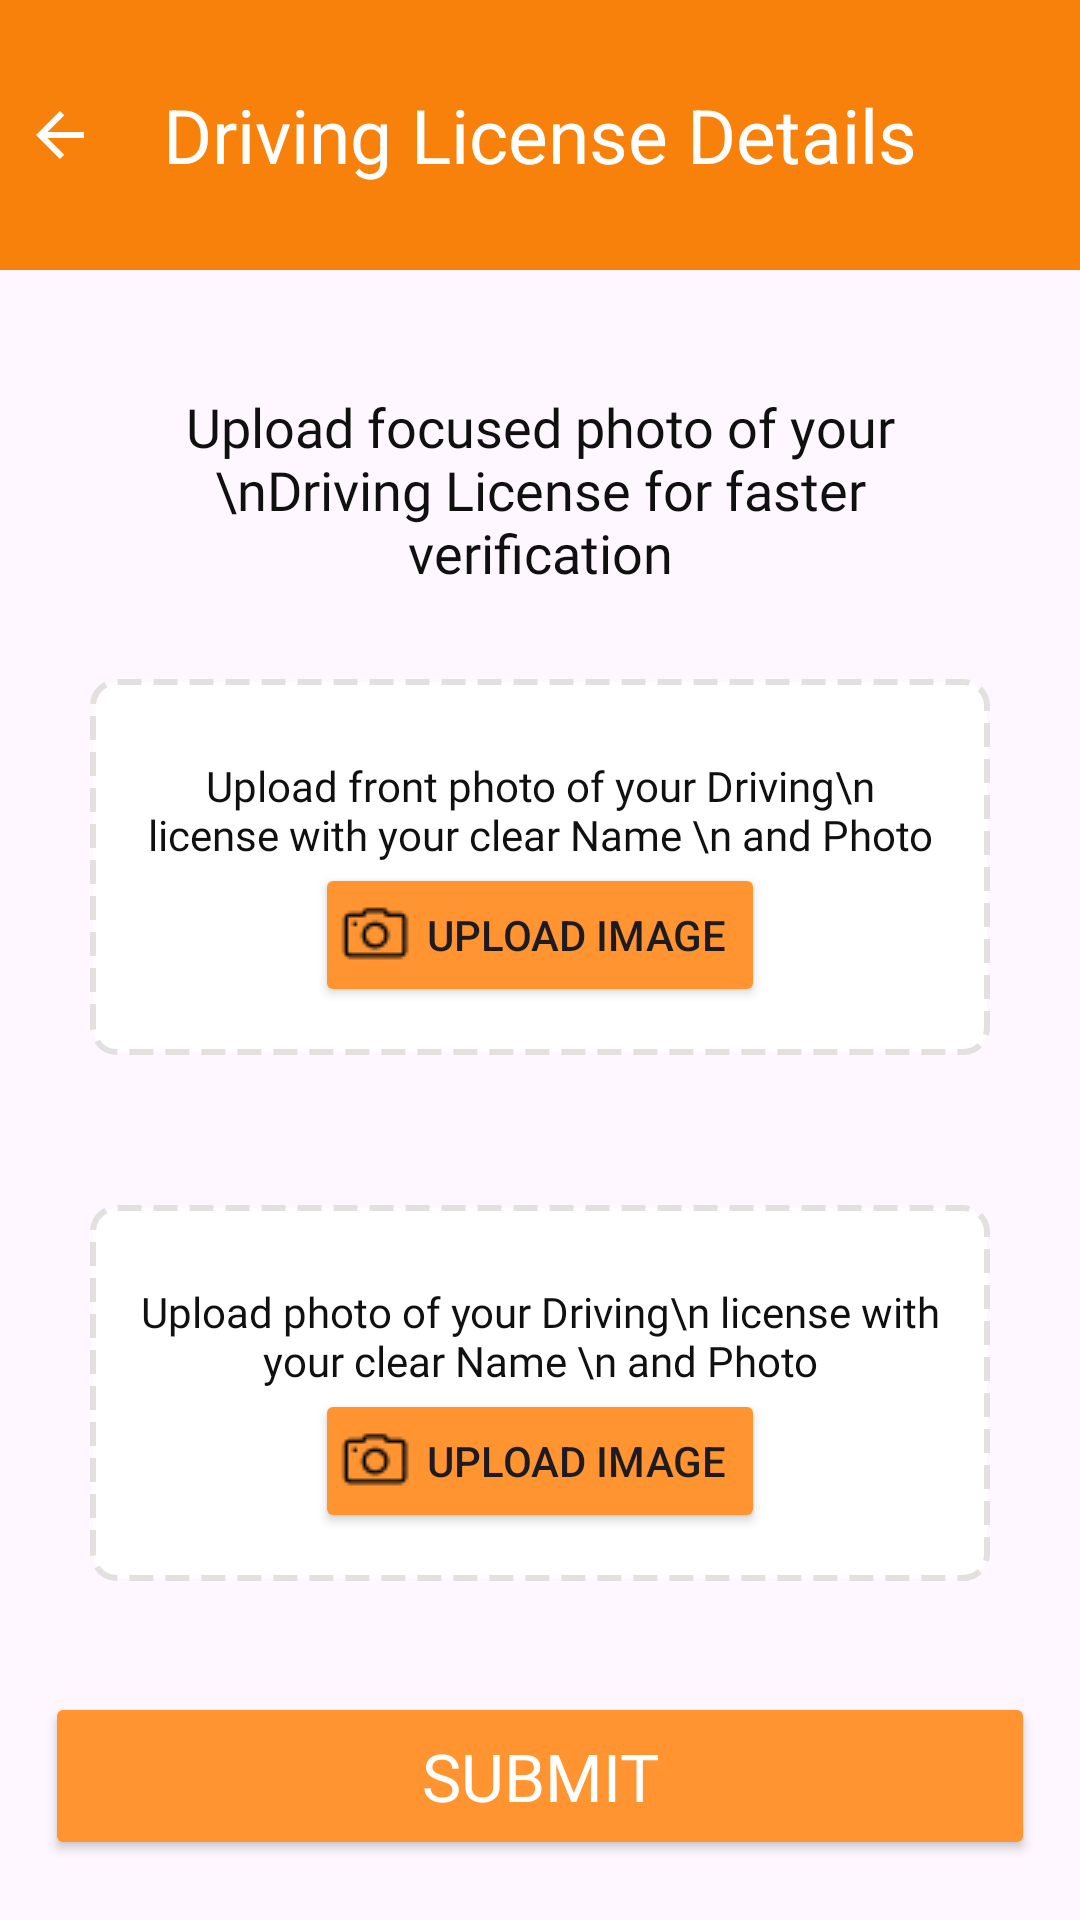

Point at icon controls on the screen. Image size 1080w x 1920h, points as (x=x, y=y).
Back: (x=60, y=135)
